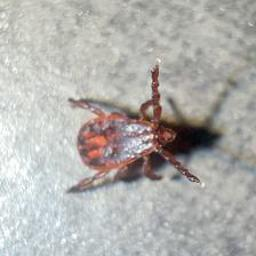Rhipicephalus sanguineus: (68, 65, 200, 191)
